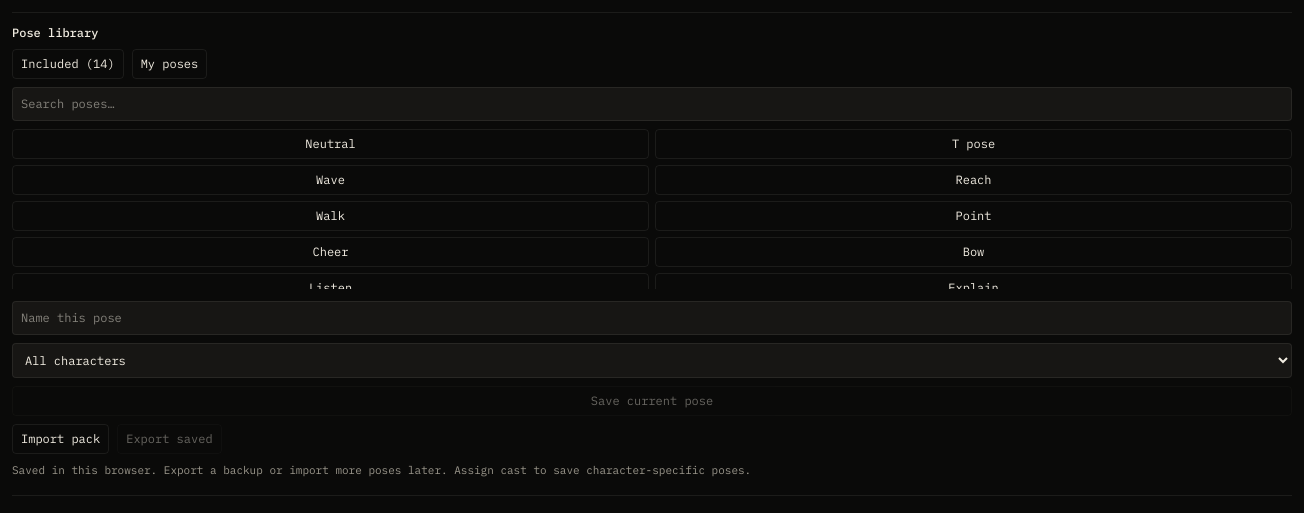
refreshes the visible library when another tab updates storage
Click the tab "My poses" at (169, 64), box [132,49,207,79]
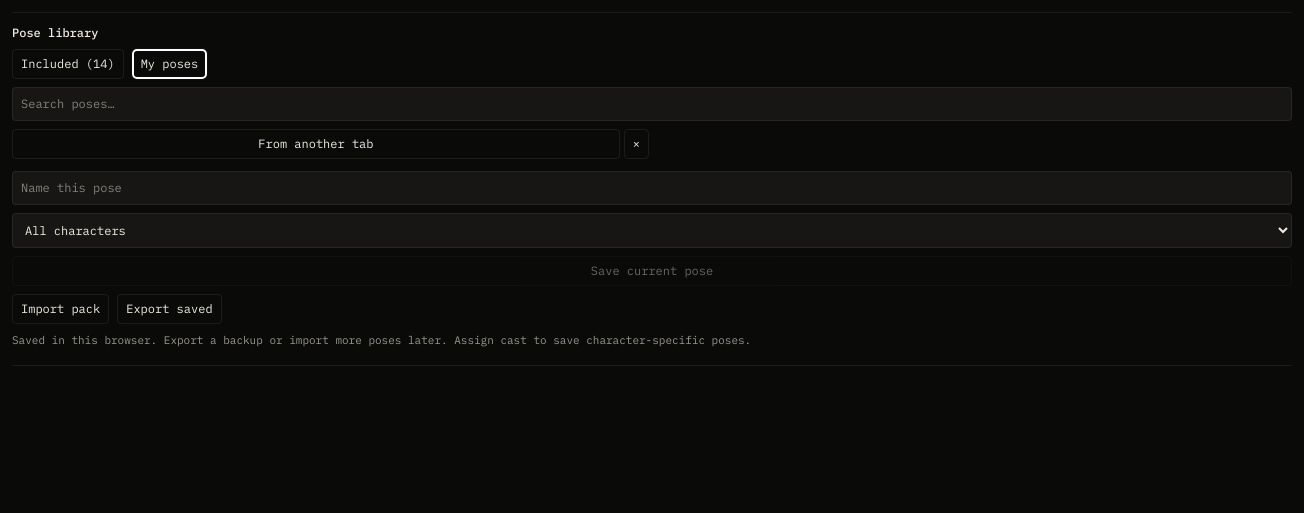
Check: the button "From another tab" is shown, box [12,129,620,159]
